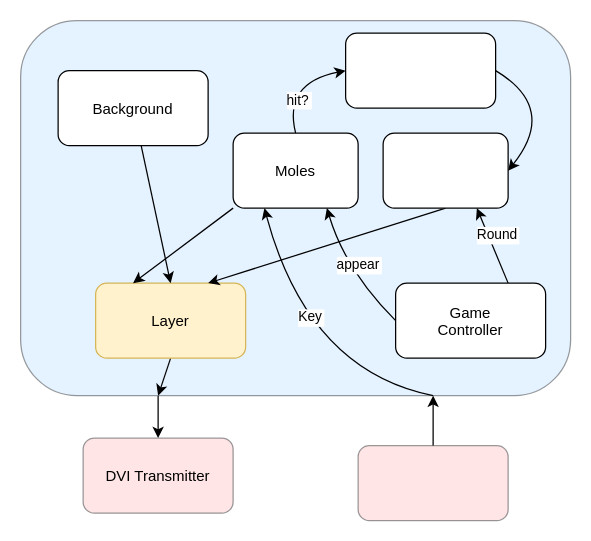
Image size: 591x541. Some labels were removed from this diagram. The centre of each missing label's shape, as x and y in pixels:
Key Driver: the point at 432,482
Round & Score Display: the point at 445,170
Score Board: the point at 420,70
